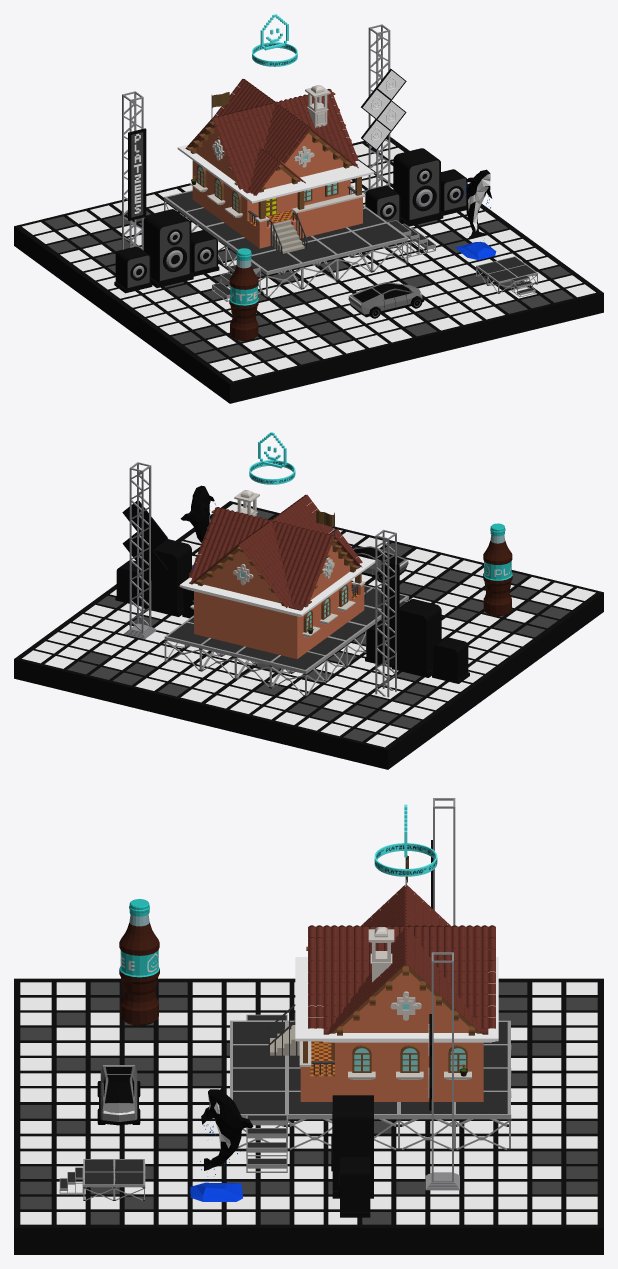
The picture shows the model from 3 angles, top to bottom: view 1: azimuth 30°, elevation 25°; view 2: azimuth 150°, elevation 25°; view 3: azimuth 270°, elevation 25°; orthographic projection. The views are drawn at different scales.
Visible parts, largest first — view 1: Cube.008, Cube.1141, OBJRANDOM_PLATZEECOLA, VEHICLES_CYBERTRUCK, ANIMAL_ORCA, TYPE_PREMIUM; view 2: Cube.008, Cube.1141, OBJRANDOM_PLATZEECOLA, ANIMAL_ORCA, TYPE_PREMIUM, VEHICLES_CYBERTRUCK; view 3: Cube.008, Cube.1141, OBJRANDOM_PLATZEECOLA, ANIMAL_ORCA, VEHICLES_CYBERTRUCK, TYPE_PREMIUM.
Part boxes in pixels (x1,y1,x2,y2): Cube.008: [14, 24, 603, 403]; Cube.1141: [177, 79, 373, 254]; OBJRANDOM_PLATZEECOLA: [229, 248, 258, 340]; VEHICLES_CYBERTRUCK: [348, 282, 424, 318]; ANIMAL_ORCA: [455, 169, 496, 260]; TYPE_PREMIUM: [252, 14, 297, 66]; Cube.008: [14, 462, 603, 769]; Cube.1141: [179, 490, 375, 658]; OBJRANDOM_PLATZEECOLA: [483, 523, 512, 616]; ANIMAL_ORCA: [180, 485, 215, 570]; TYPE_PREMIUM: [249, 432, 295, 484]; VEHICLES_CYBERTRUCK: [350, 546, 408, 582]; Cube.008: [14, 798, 603, 1254]; Cube.1141: [267, 855, 498, 1101]; OBJRANDOM_PLATZEECOLA: [119, 899, 159, 1025]; ANIMAL_ORCA: [190, 1088, 253, 1201]; VEHICLES_CYBERTRUCK: [97, 1065, 140, 1125]; TYPE_PREMIUM: [374, 804, 437, 876].
Size of the model in its own units: 4000 by 2515 by 4000.
Materials: 42 (2 with a texture image).
